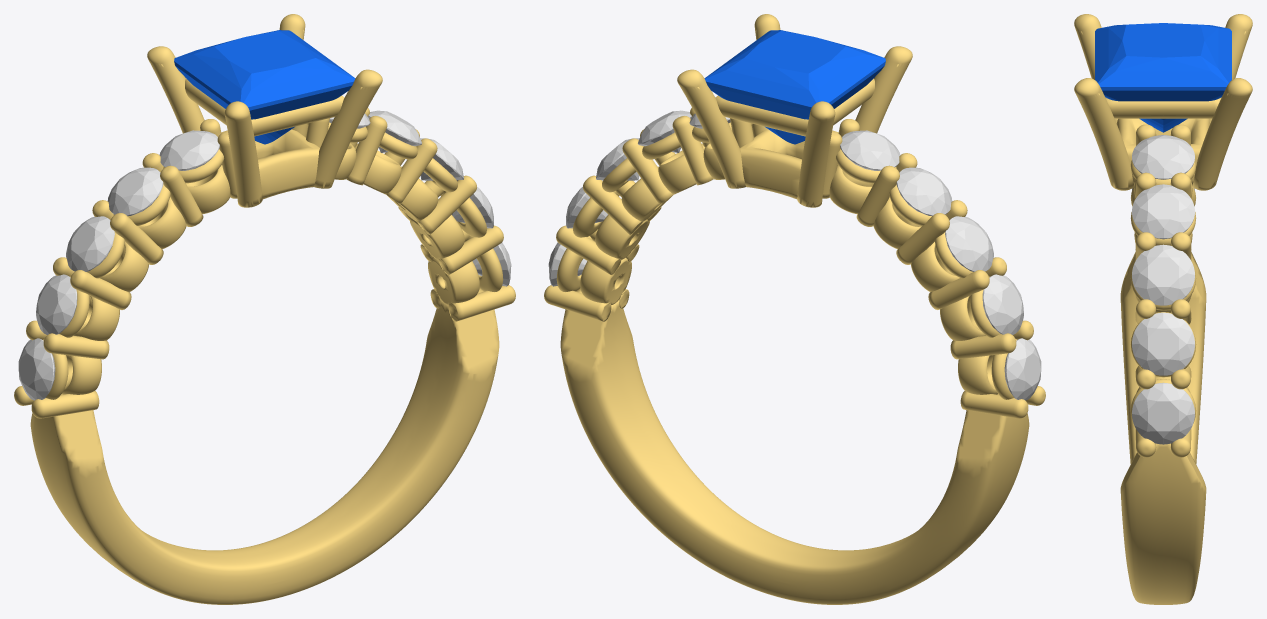
Rendered from bluesapphire-princess-yellowgold-4prong-straighttaperedband-11stone.glb.
The picture shows the model from 3 angles, left to right: view 1: azimuth 30°, elevation 25°; view 2: azimuth 150°, elevation 25°; view 3: azimuth 270°, elevation 25°; orthographic projection.
Visible parts, largest first — view 1: metal, stone, side.002, side.003, side.001, side.004, side, side.008, side.007; view 2: metal, stone, side.002, side.003, side.001, side.004, side, side.008, side.007; view 3: metal, stone, side.006, side.005, side.007, side.008, side.009.
Boxes of the visible parts, x1,y1,x2,y2 form: metal: [14, 14, 515, 604]; stone: [174, 30, 355, 144]; side.002: [66, 216, 114, 271]; side.003: [107, 167, 163, 216]; side.001: [36, 274, 77, 334]; side.004: [159, 130, 219, 170]; side: [18, 338, 55, 400]; side.008: [368, 110, 421, 152]; side.007: [420, 138, 463, 180]; metal: [544, 14, 1045, 604]; stone: [704, 30, 885, 144]; side.002: [945, 216, 993, 271]; side.003: [896, 167, 952, 216]; side.001: [982, 274, 1023, 334]; side.004: [840, 130, 900, 170]; side: [1004, 338, 1041, 400]; side.008: [638, 110, 691, 152]; side.007: [596, 138, 639, 180]; metal: [1074, 14, 1252, 604]; stone: [1095, 23, 1231, 132]; side.006: [1132, 312, 1194, 375]; side.005: [1132, 382, 1194, 444]; side.007: [1132, 244, 1194, 305]; side.008: [1132, 184, 1194, 239]; side.009: [1132, 135, 1194, 179].
Size of the model in its own units: 22 by 23.65 by 7.08.
